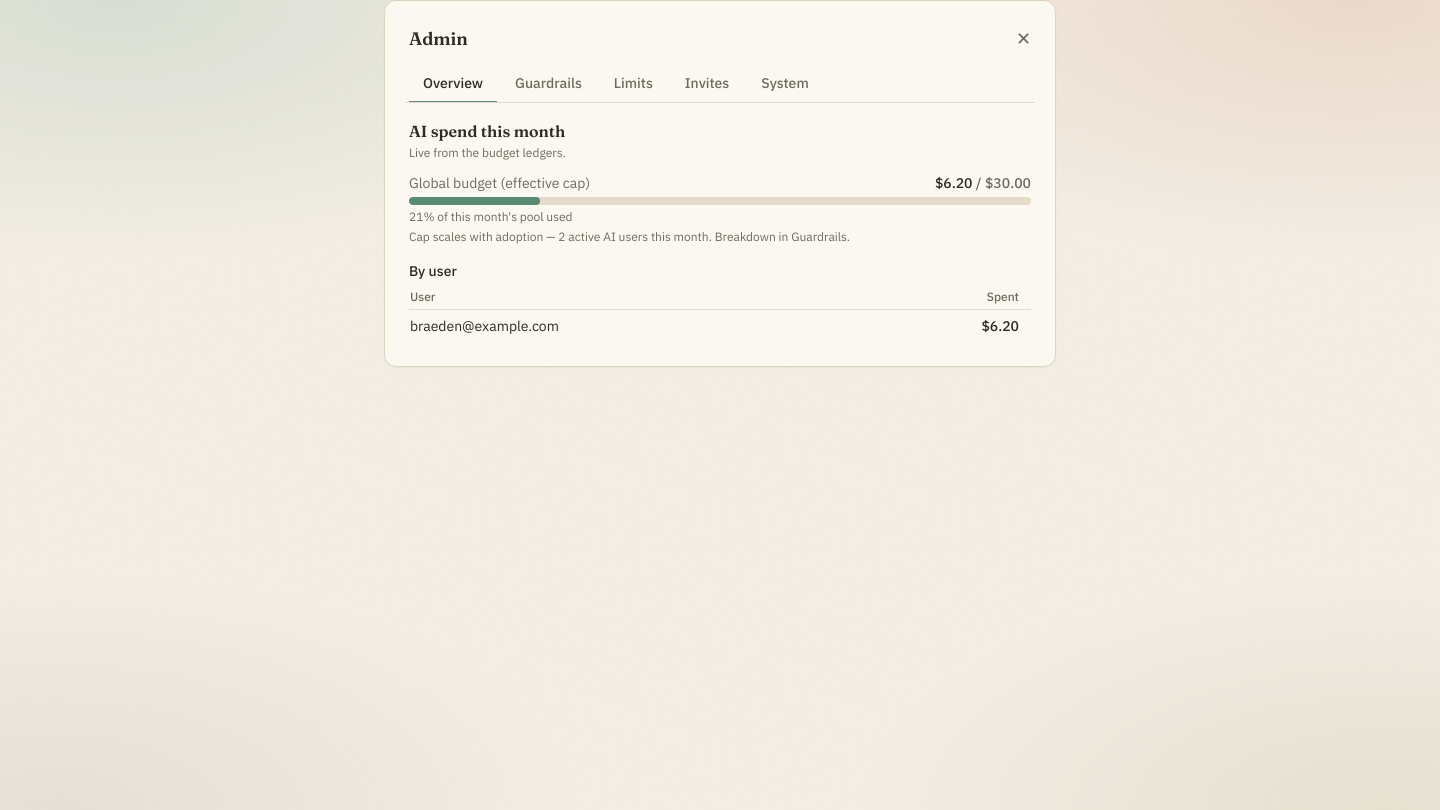
it: AdminPage › Guardrails tab: an out-of-range base disables Save instead of sending it
This screenshot has width=1440, height=810.
Click the tab "Guardrails".
click(548, 84)  # box [501,65,596,103]
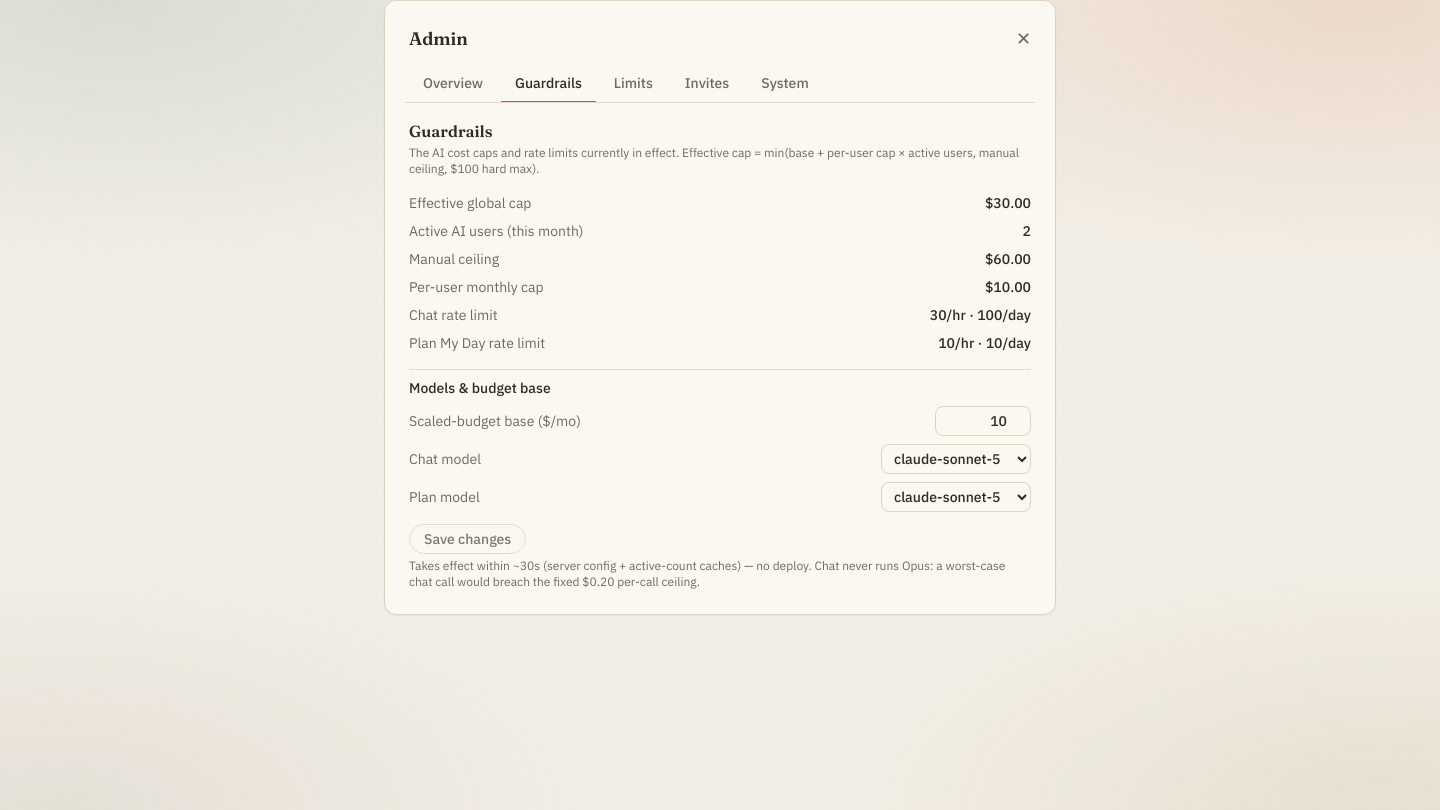
Replace the text in the number field labelled "Scaled-budget base ($/mo)" with "250" at (983, 421), box [935,406,1031,436]
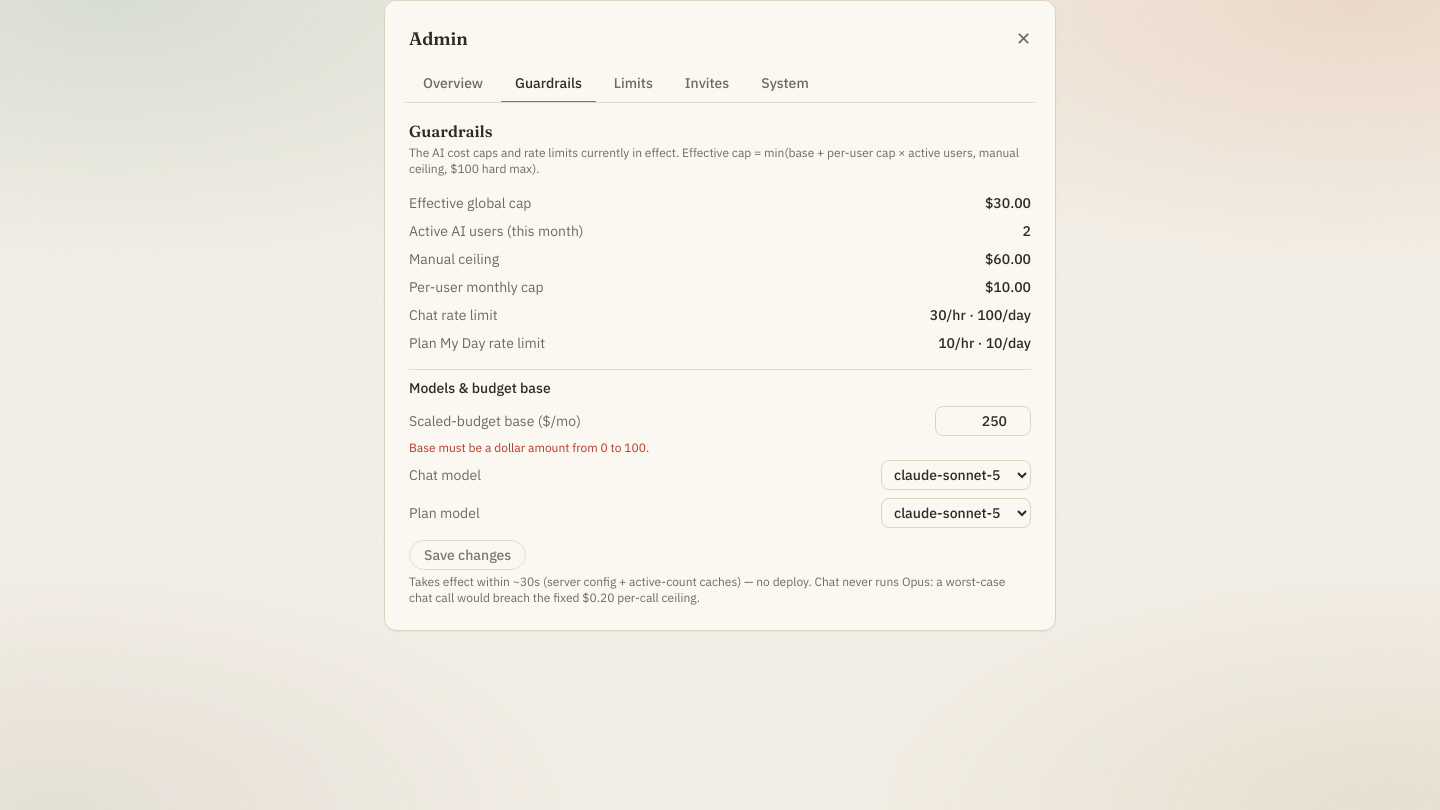
Now the button "Save changes" is disabled, box [409,540,526,570]
Now the text "Base must be a dollar amount from 0 to 100." is shown, box [409,440,649,455]
